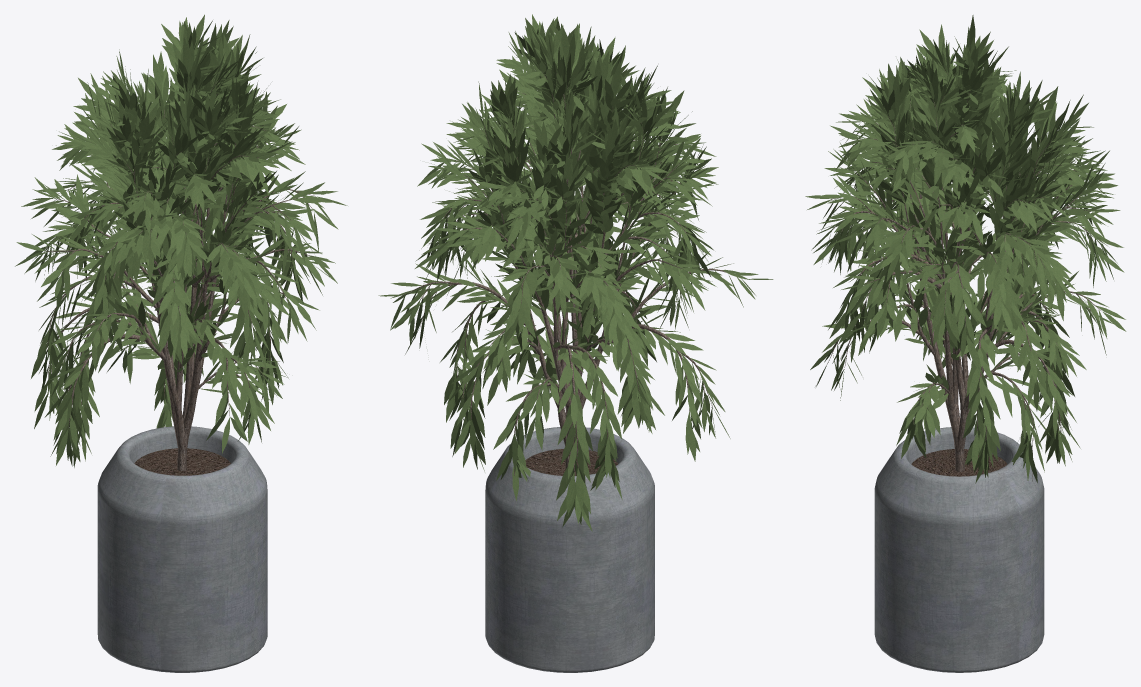
The model's file is green-planter-tree.glb.
The picture shows the model from 3 angles, left to right: view 1: azimuth 30°, elevation 25°; view 2: azimuth 150°, elevation 25°; view 3: azimuth 270°, elevation 25°; orthographic projection.
Visible parts, largest first — view 1: Cylinder_Leaves_0, Cylinder_PotMaterial_0, tree_Trunk_0, Cylinder_DirtMat_0; view 2: Cylinder_Leaves_0, Cylinder_PotMaterial_0, tree_Trunk_0, Cylinder_DirtMat_0; view 3: Cylinder_Leaves_0, Cylinder_PotMaterial_0, tree_Trunk_0, Cylinder_DirtMat_0.
Part boxes in pixels (<box>): Cylinder_Leaves_0: <box>15,14,347,467</box>; Cylinder_PotMaterial_0: <box>97,426,267,672</box>; tree_Trunk_0: <box>45,78,315,470</box>; Cylinder_DirtMat_0: <box>134,448,230,475</box>; Cylinder_Leaves_0: <box>378,14,773,531</box>; Cylinder_PotMaterial_0: <box>485,427,654,672</box>; tree_Trunk_0: <box>404,72,725,475</box>; Cylinder_DirtMat_0: <box>525,449,618,475</box>; Cylinder_Leaves_0: <box>805,15,1126,483</box>; Cylinder_PotMaterial_0: <box>874,427,1044,672</box>; tree_Trunk_0: <box>827,70,1101,481</box>; Cylinder_DirtMat_0: <box>911,449,1007,476</box>.
Bounding box in the file's own units: 0.7547 × 1.5 × 0.7198.
4 materials, 4 textured.
